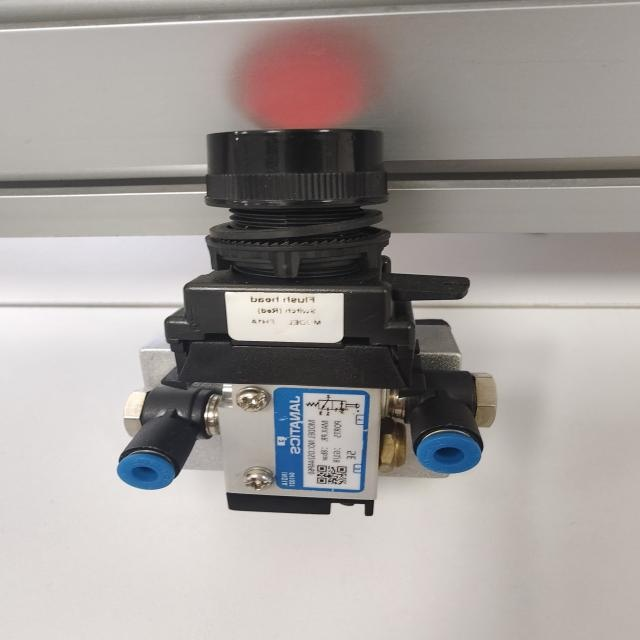push button: (115, 127, 498, 516)
